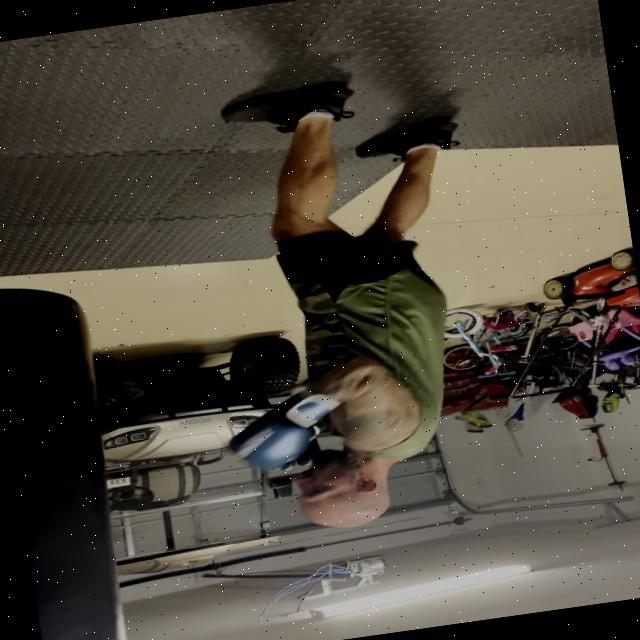bag: (0, 271, 133, 640)
no punch: (208, 343, 448, 548)
